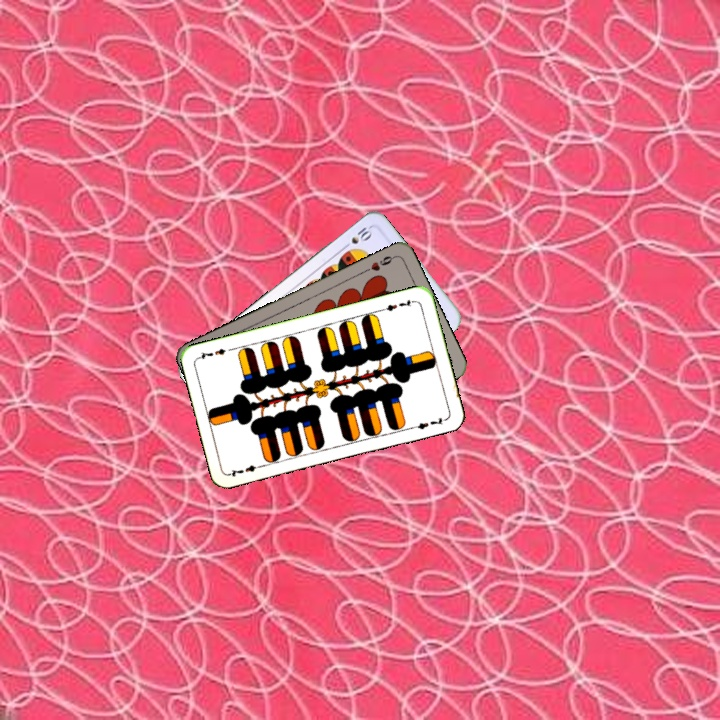E7: (378, 296, 418, 314), (226, 461, 266, 479)
H9: (360, 252, 398, 275)
S10: (338, 223, 375, 252)
